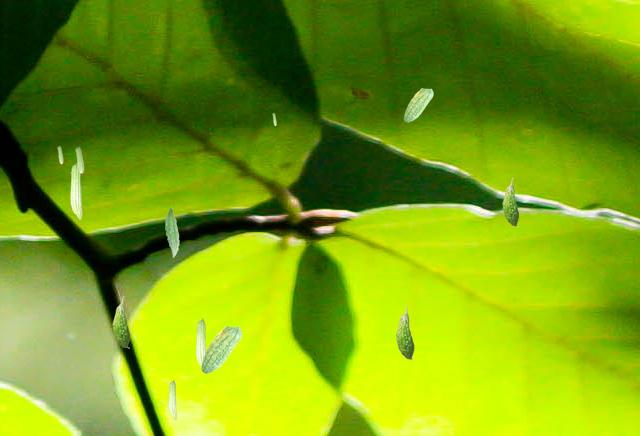ampalaya: (201, 325, 242, 374), (403, 87, 433, 122), (395, 305, 414, 360), (112, 295, 130, 349), (502, 177, 519, 227), (164, 206, 180, 258), (70, 163, 82, 220), (195, 317, 206, 365), (168, 379, 177, 420), (75, 146, 84, 173), (57, 145, 63, 164), (272, 112, 277, 126)
